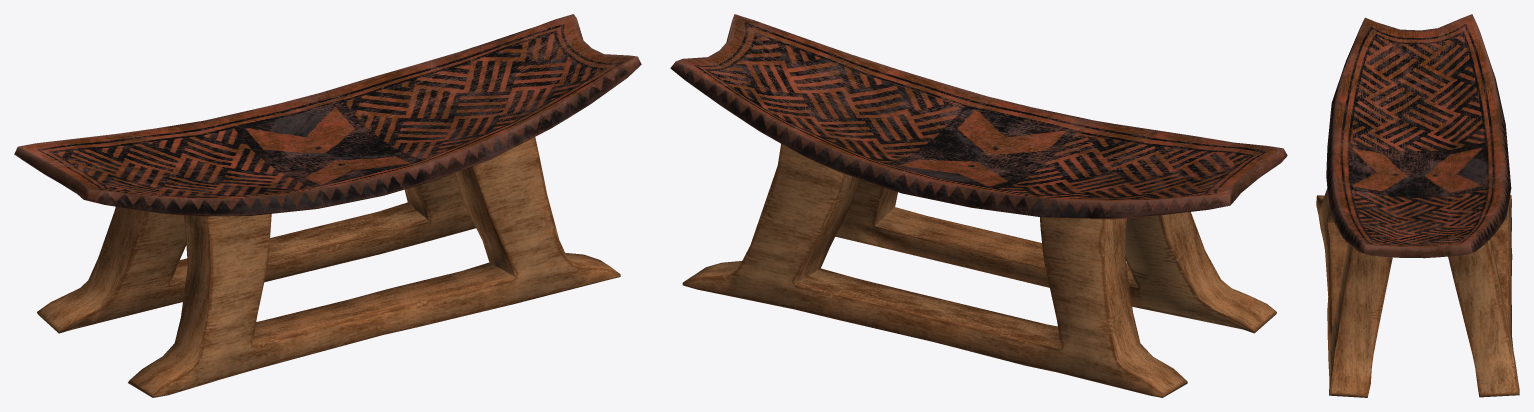
Rendered from SM_Banco.glb.
The picture shows the model from 3 angles, left to right: view 1: azimuth 30°, elevation 25°; view 2: azimuth 150°, elevation 25°; view 3: azimuth 270°, elevation 25°; orthographic projection. The views are drawn at different scales.
Visible parts, largest first — view 1: SM_Banco; view 2: SM_Banco; view 3: SM_Banco.
Part boxes in pixels (<box>): SM_Banco: <box>14,14,641,397</box>; SM_Banco: <box>670,14,1287,397</box>; SM_Banco: <box>1316,14,1519,397</box>.
Size of the model in its own units: 1.24 by 0.4157 by 0.4563.
1 material, 1 textured.
